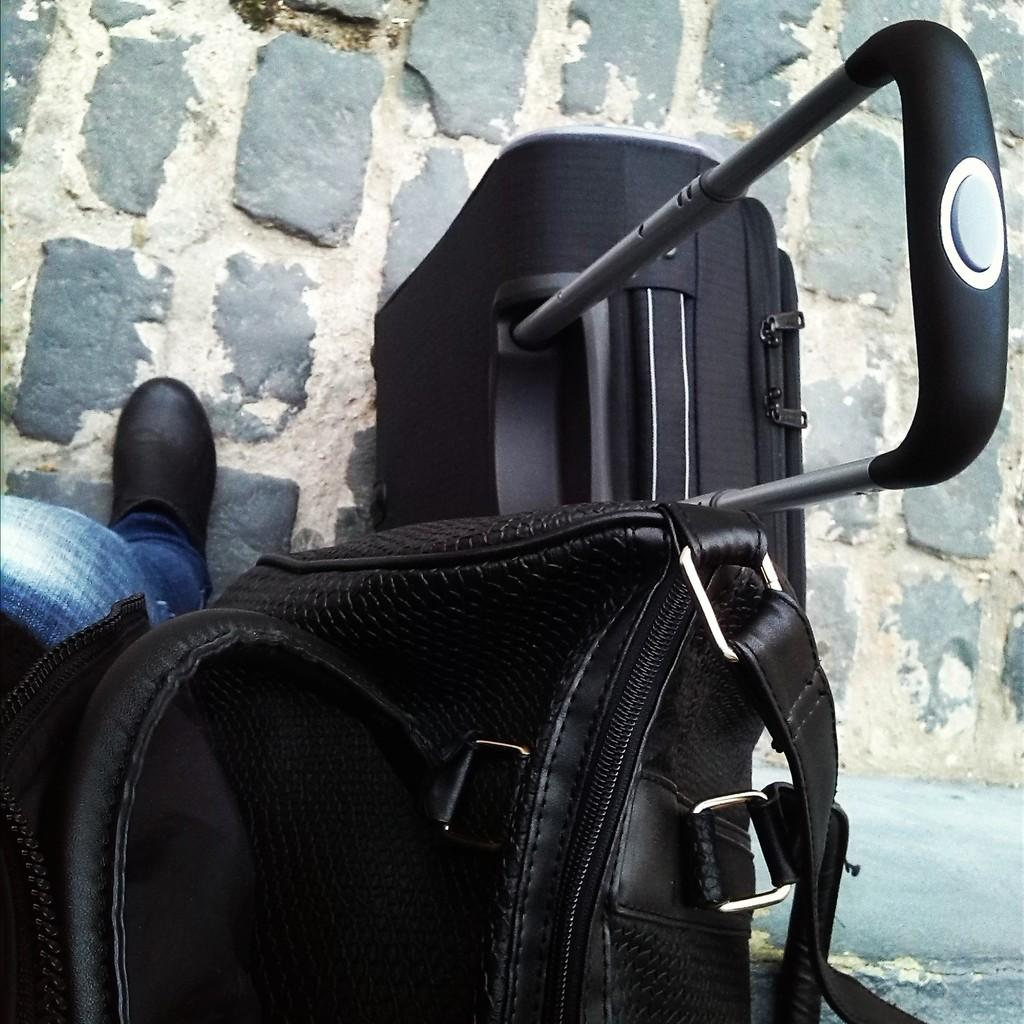Luggage-and-bags: (116, 476, 904, 1023), (368, 18, 1012, 618)
